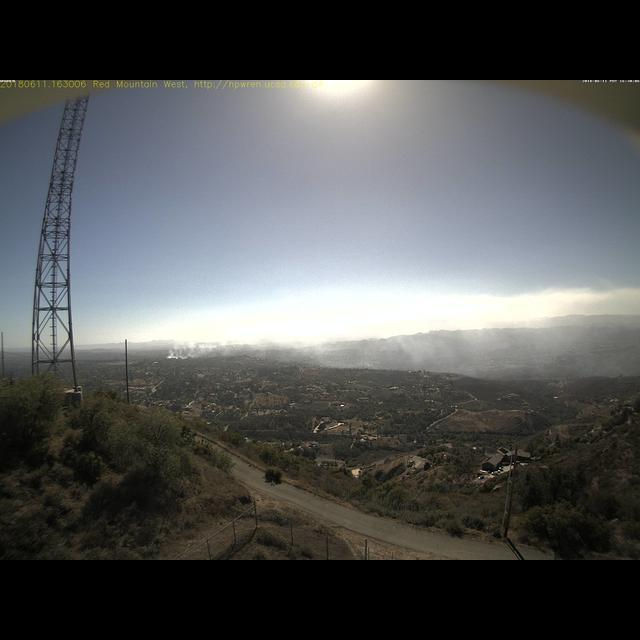Smoke: (166, 337, 446, 371)
